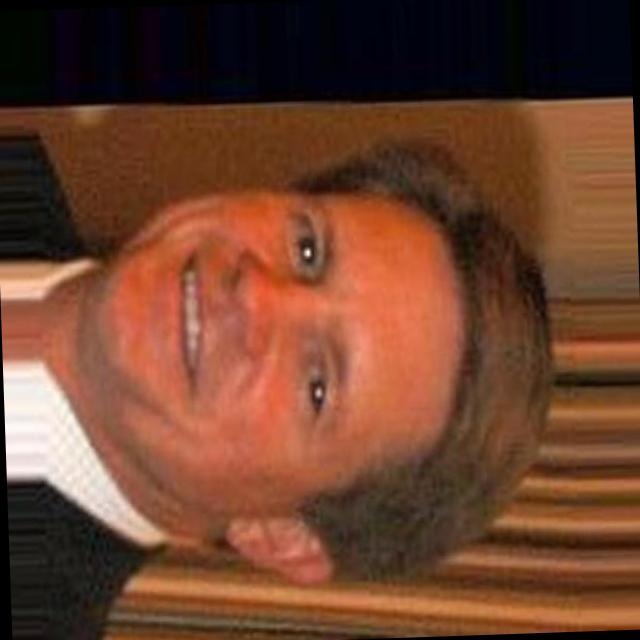bareface: (123, 196, 401, 454)
